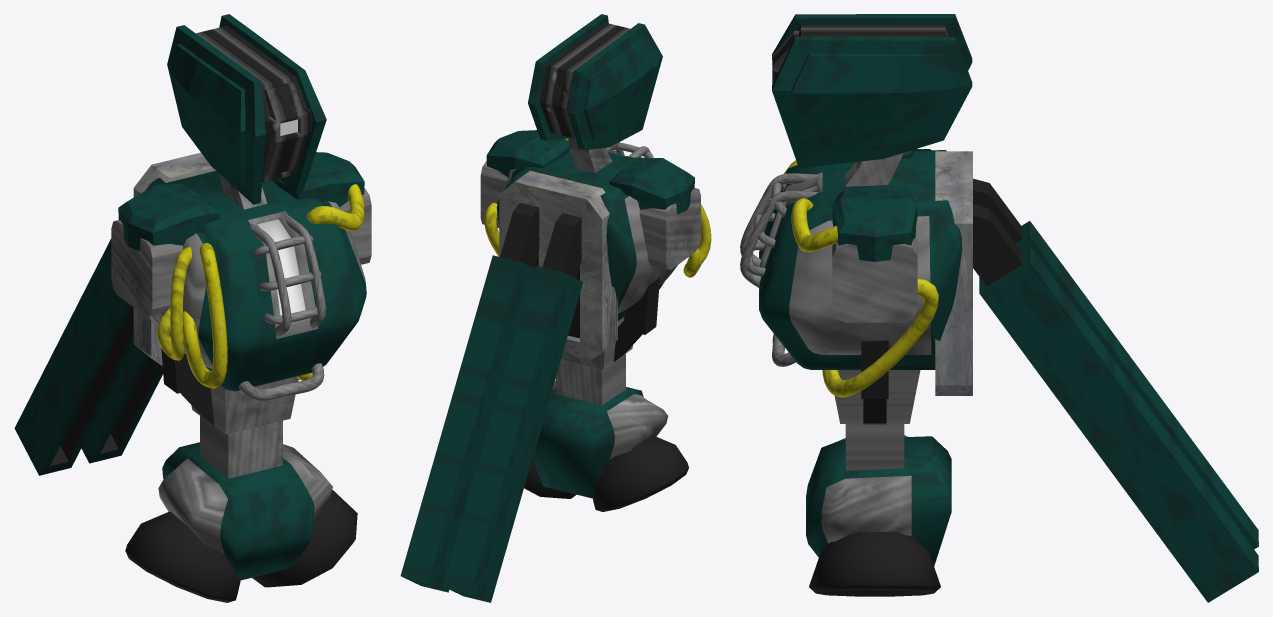
File: Robot 7 head and body.fbx
3 views of the same model, side by side, from view 1: azimuth 30°, elevation 25°; view 2: azimuth 150°, elevation 25°; view 3: azimuth 270°, elevation 25° (orthographic). The views are drawn at different scales.
Visible parts, largest first — view 1: Cube.019, Cube.021, Cube.005, Cube.028, Cube.003, Cube.024, Cube.014; view 2: Cube.019, Cube.028, Cube.024, Cube.021, Cube.005, Cube.003, Cube.014; view 3: Cube.019, Cube.024, Cube.005, Cube.021, Cube.028, Cube.003, Cube.014.
Boxes of the visible parts, <box> form: Cube.019: <box>111,152,371,400</box>; Cube.021: <box>125,442,357,602</box>; Cube.005: <box>167,14,326,204</box>; Cube.028: <box>14,239,133,475</box>; Cube.003: <box>161,333,298,478</box>; Cube.024: <box>81,344,163,463</box>; Cube.014: <box>219,174,267,209</box>; Cube.019: <box>480,130,711,363</box>; Cube.028: <box>443,213,583,602</box>; Cube.024: <box>400,203,539,592</box>; Cube.021: <box>524,381,688,511</box>; Cube.005: <box>528,14,662,149</box>; Cube.003: <box>555,278,659,405</box>; Cube.014: <box>568,137,612,172</box>; Cube.019: <box>740,148,972,397</box>; Cube.024: <box>973,204,1258,602</box>; Cube.005: <box>772,14,972,167</box>; Cube.021: <box>806,435,951,596</box>; Cube.028: <box>973,178,1258,549</box>; Cube.003: <box>834,340,920,470</box>; Cube.014: <box>845,153,903,186</box>.
Size of the model in its own units: 288 by 648 by 546.
